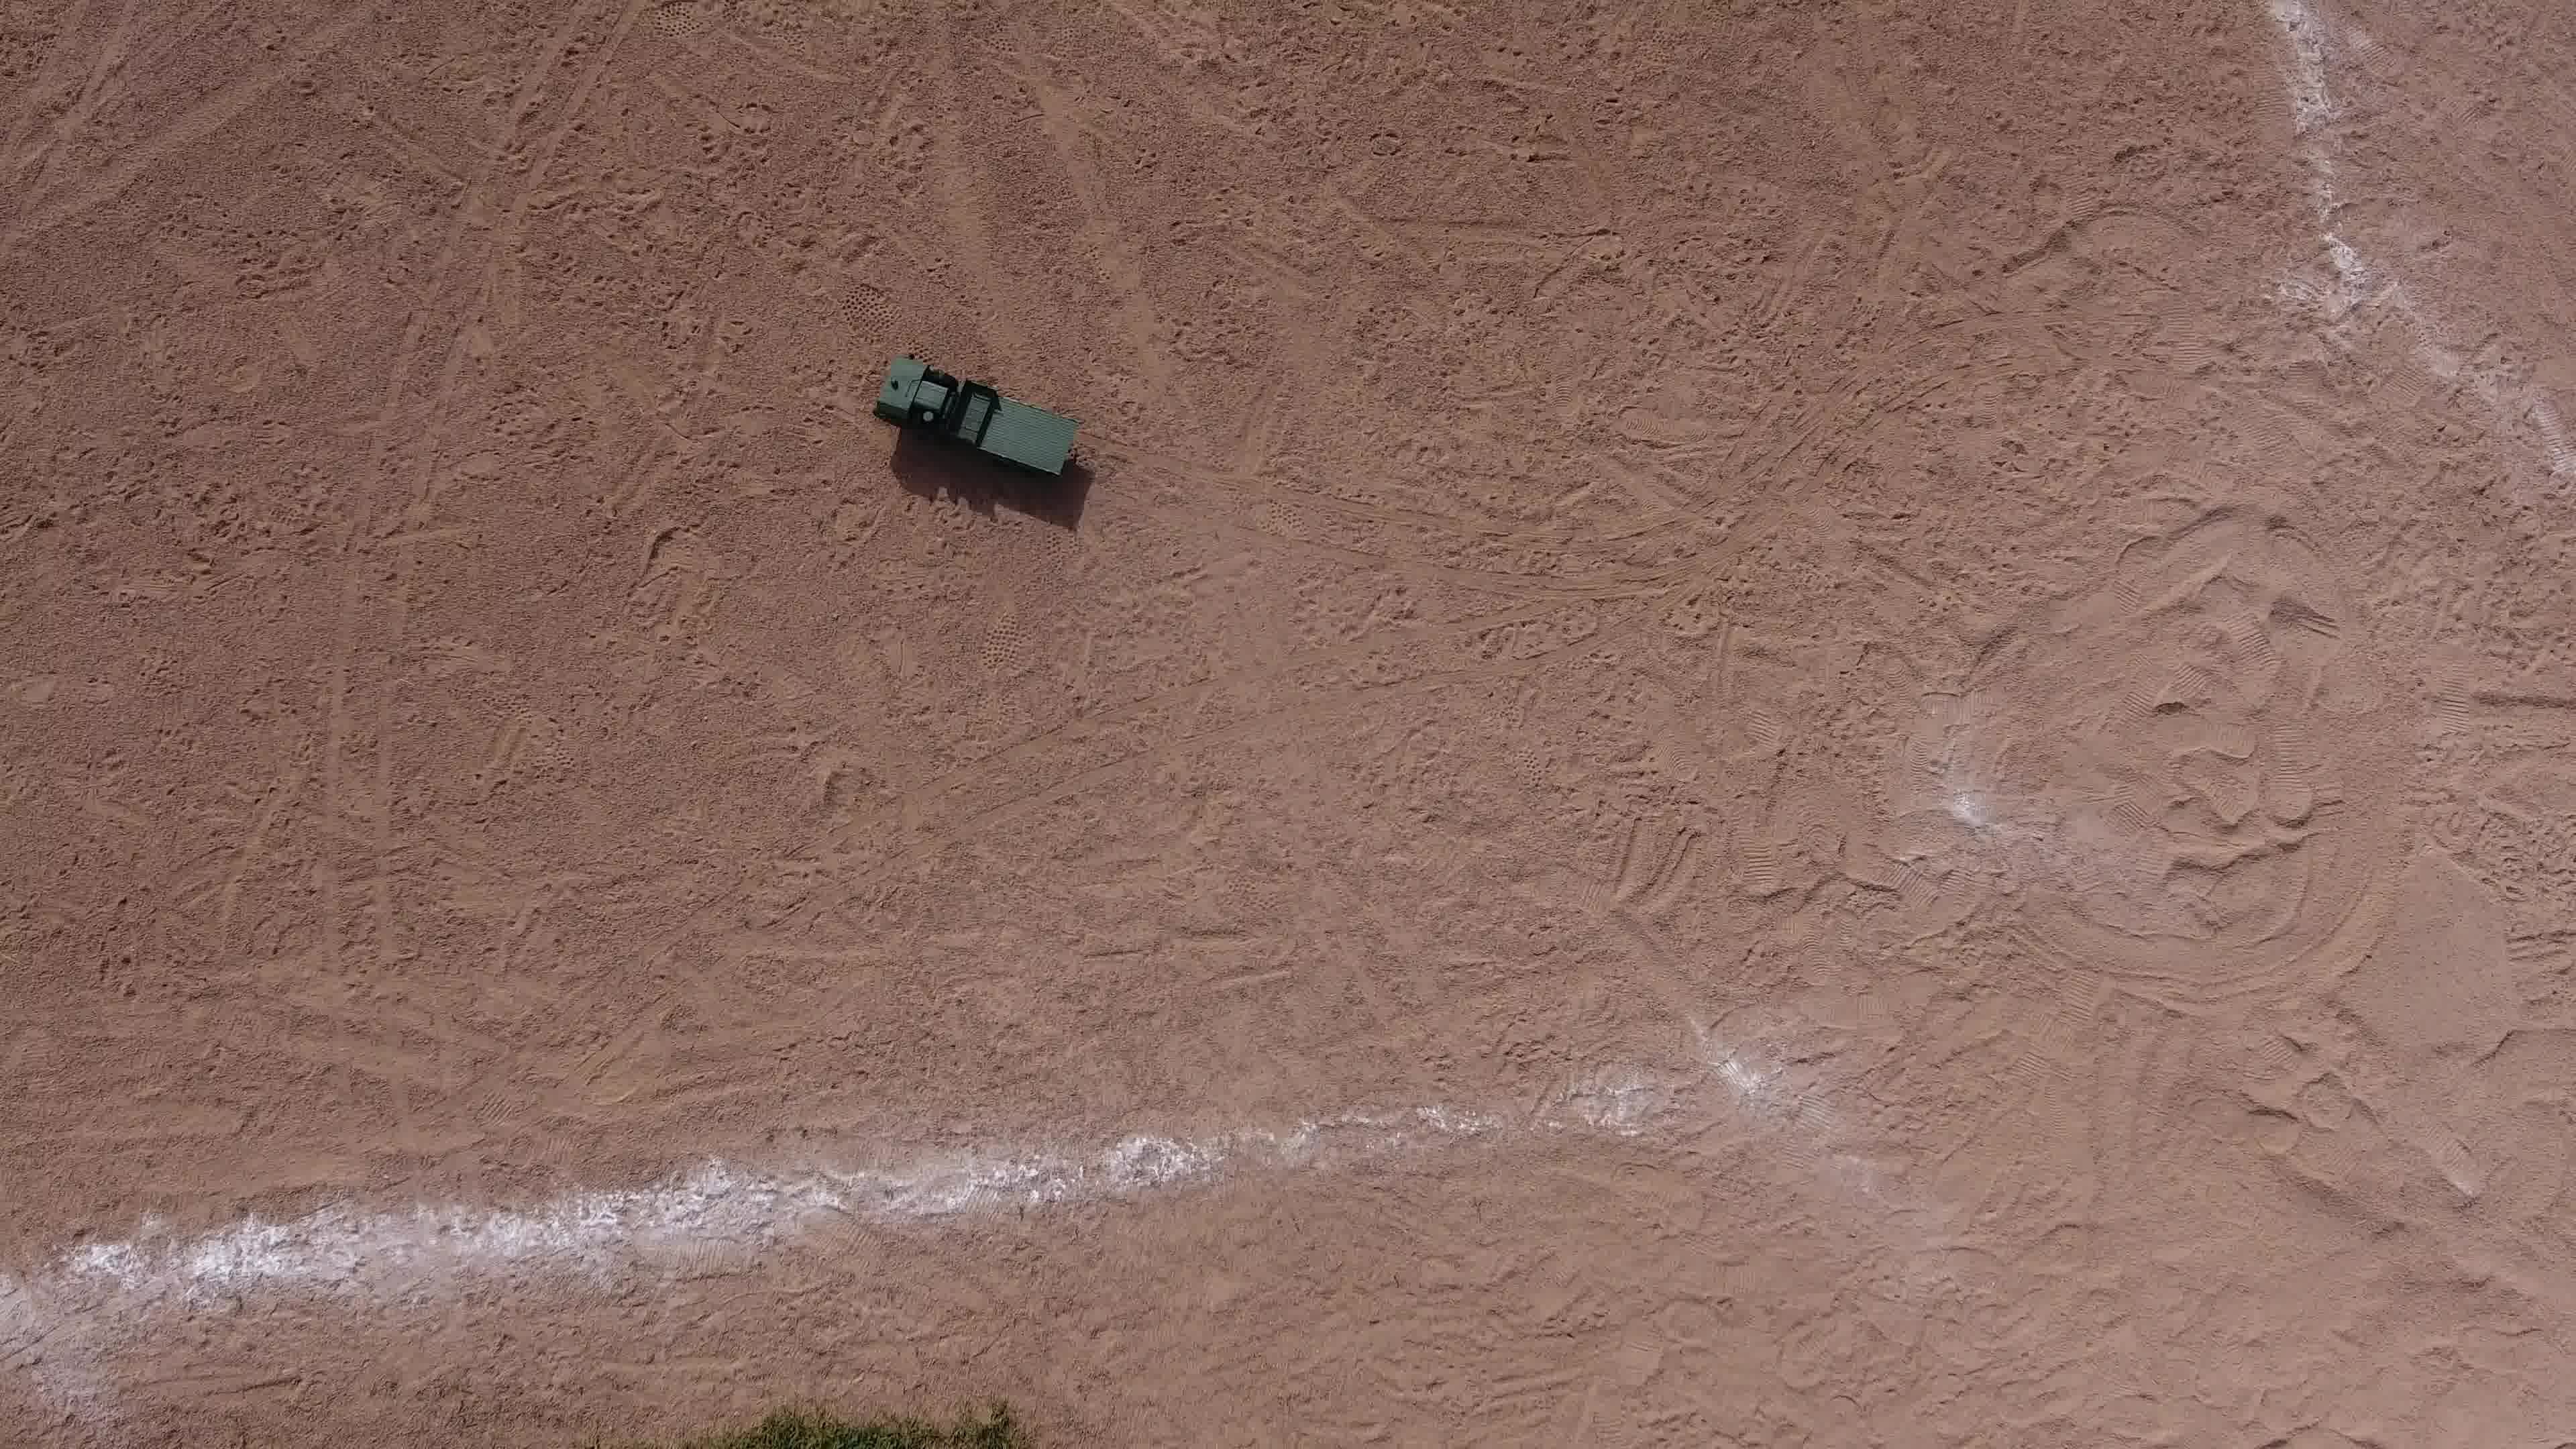transporter9: (865, 343, 1093, 506)
